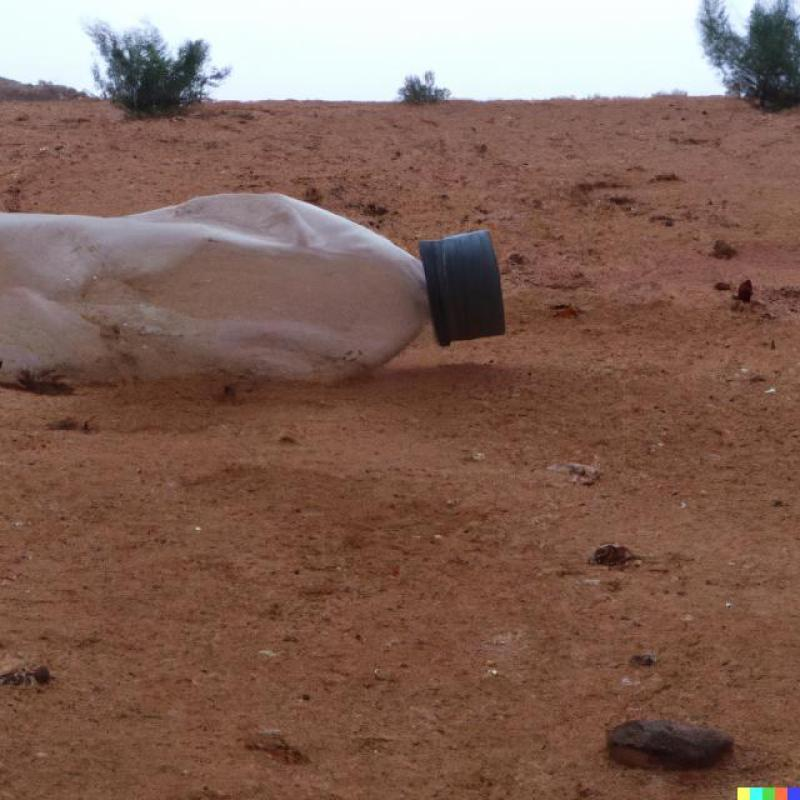botella: (0, 188, 515, 396)
